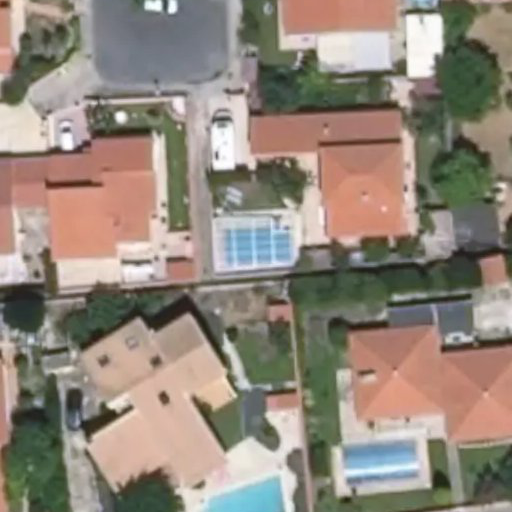pool: (340, 443, 419, 482), (226, 226, 296, 267), (207, 480, 290, 512)
